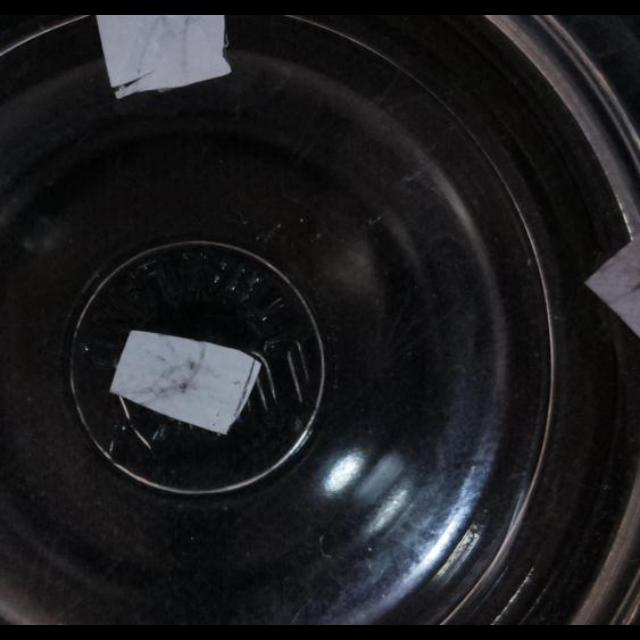Fragment: (109, 328, 263, 437), (94, 17, 228, 98), (580, 230, 640, 338)
